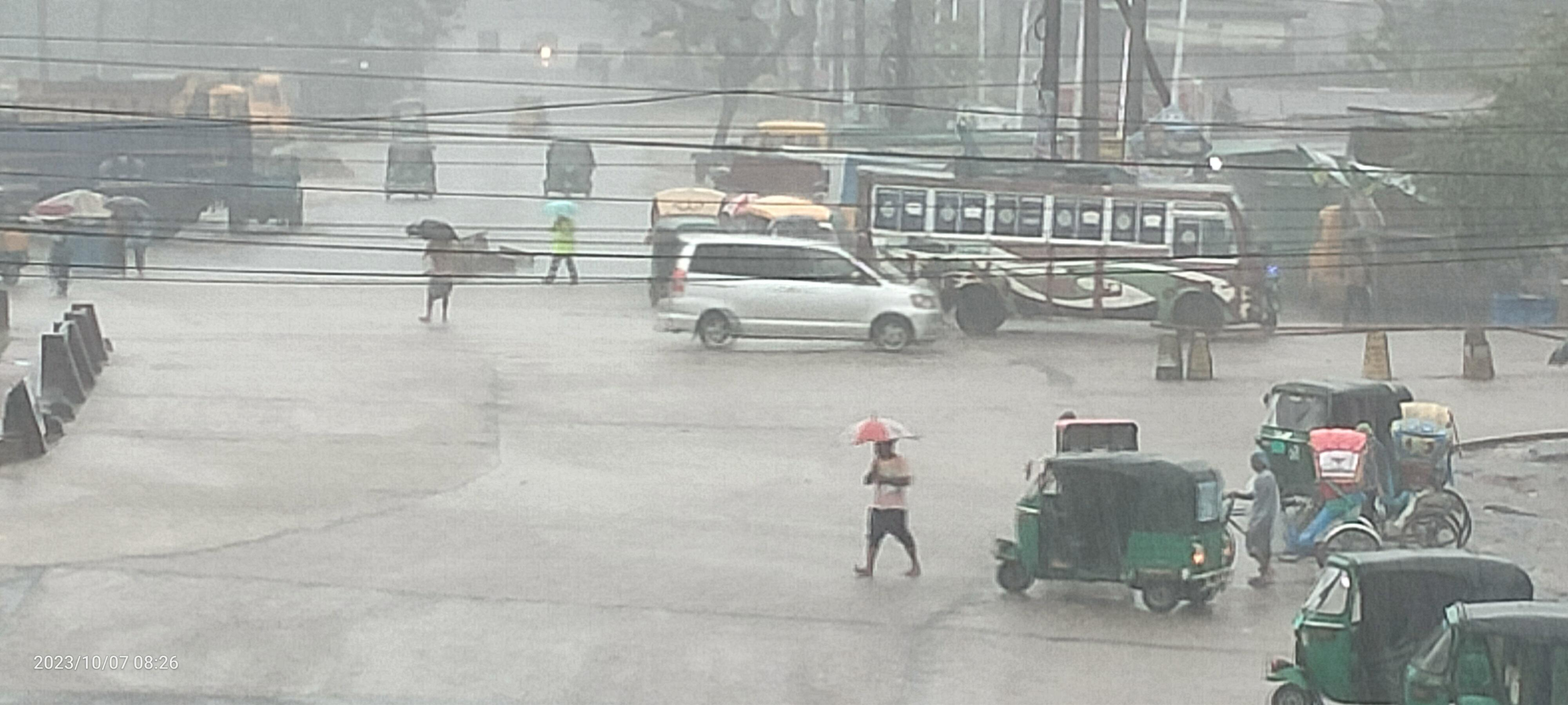Bus: (836, 136, 1328, 368)
Car: (637, 222, 966, 376), (1242, 404, 1394, 580), (1364, 373, 1508, 555)
Truck: (0, 41, 256, 257)
